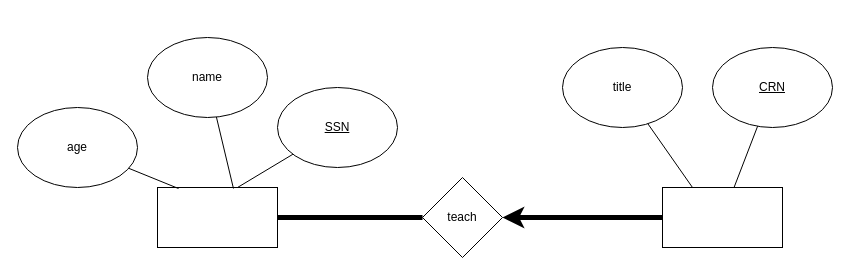
This 850x275 diagram has some shape labels left out. Here are the shapes that lost their labels. From the top down, the centre of each, then its label:
the point at 217,217: Teacher
the point at 722,217: Course
